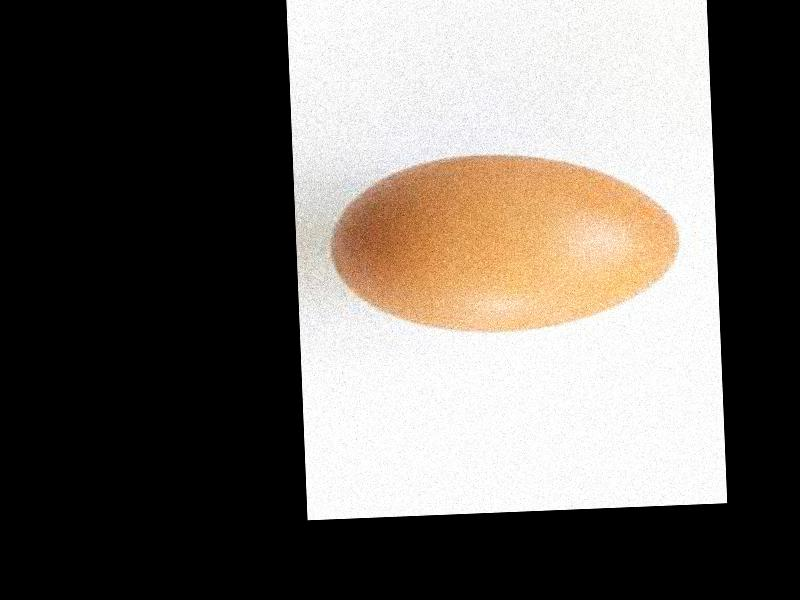Eggs: (329, 147, 682, 337)
